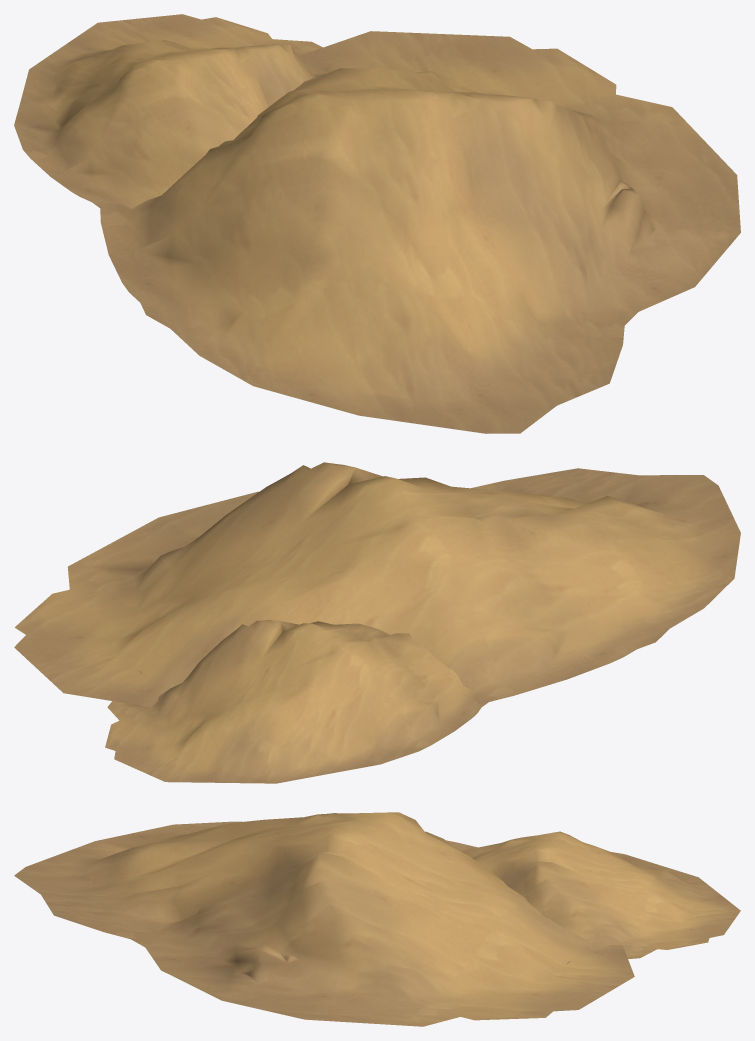
File: Area_08_8.fbx
3 views of the same model, one above another, from view 1: azimuth 30°, elevation 25°; view 2: azimuth 150°, elevation 25°; view 3: azimuth 270°, elevation 25° (orthographic). The views are drawn at different scales.
Parts seen in each view (by area): view 1: Area_08_8; view 2: Area_08_8; view 3: Area_08_8.
Part boxes in pixels (x1,y1,x2,y2): Area_08_8: [14, 14, 740, 433]; Area_08_8: [14, 462, 740, 783]; Area_08_8: [14, 812, 740, 1026].
Size of the model in its own units: 1423 by 297 by 2130.
Materials: 1 (1 with a texture image).
